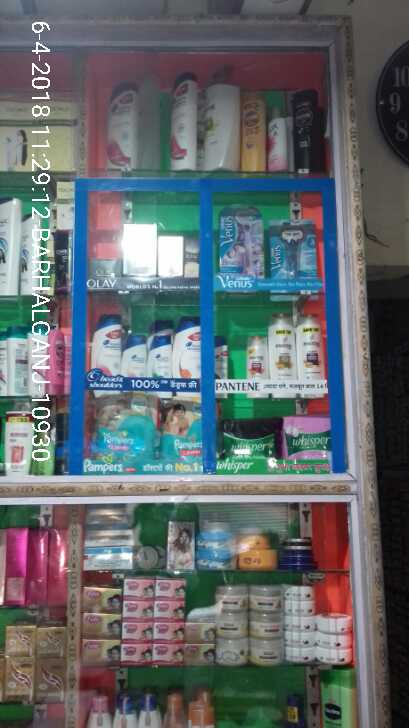venus: (270, 218, 318, 277), (223, 206, 264, 275)
